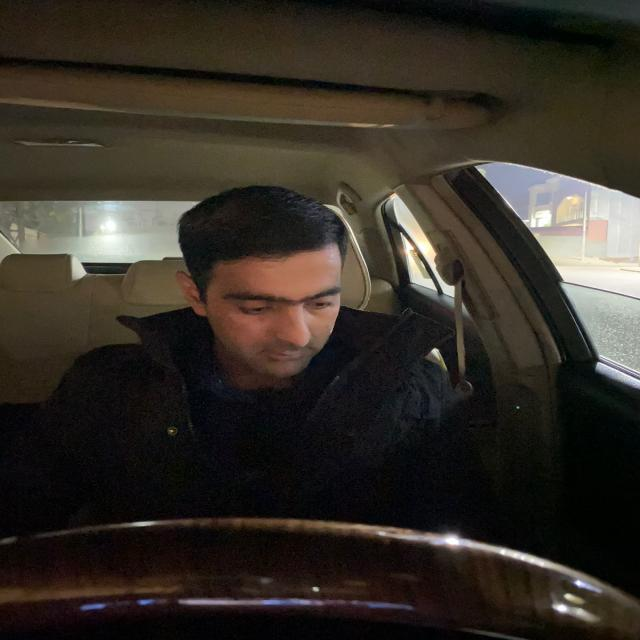person: (172, 171, 372, 380)
